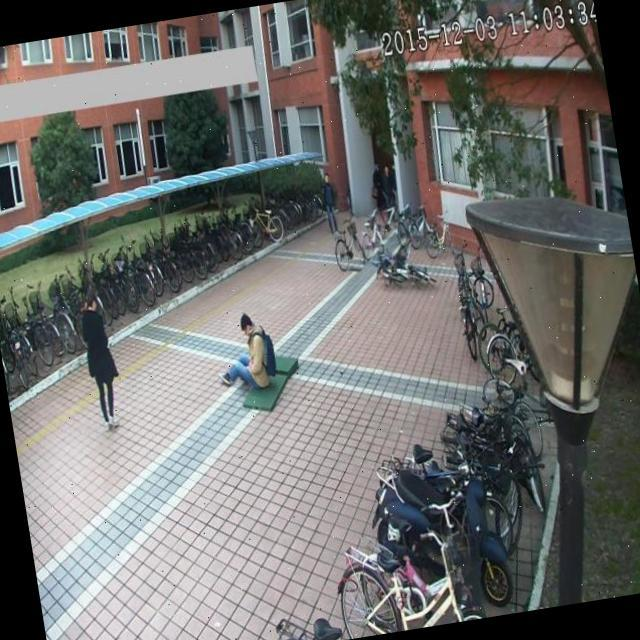person: (73, 278, 131, 445), (212, 303, 280, 400), (314, 166, 343, 238)
